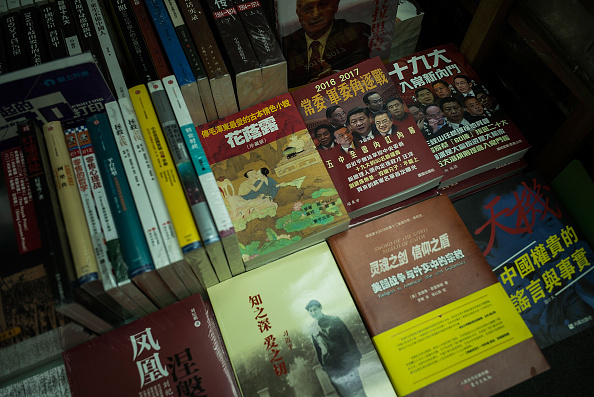em pe: (281, 0, 361, 74)
